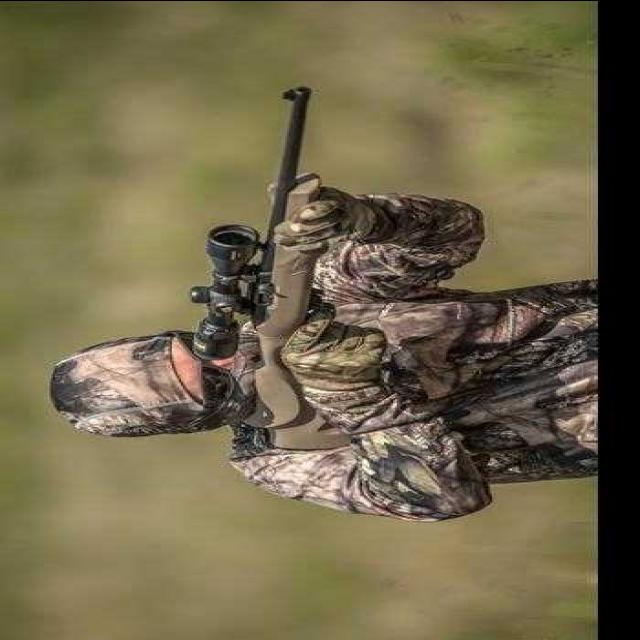heavyweapon: (202, 71, 394, 461)
